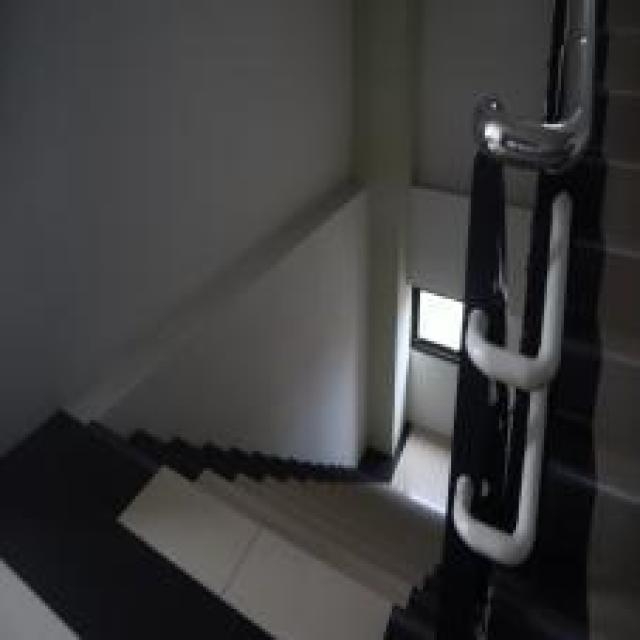downstair: (83, 483, 379, 635)
